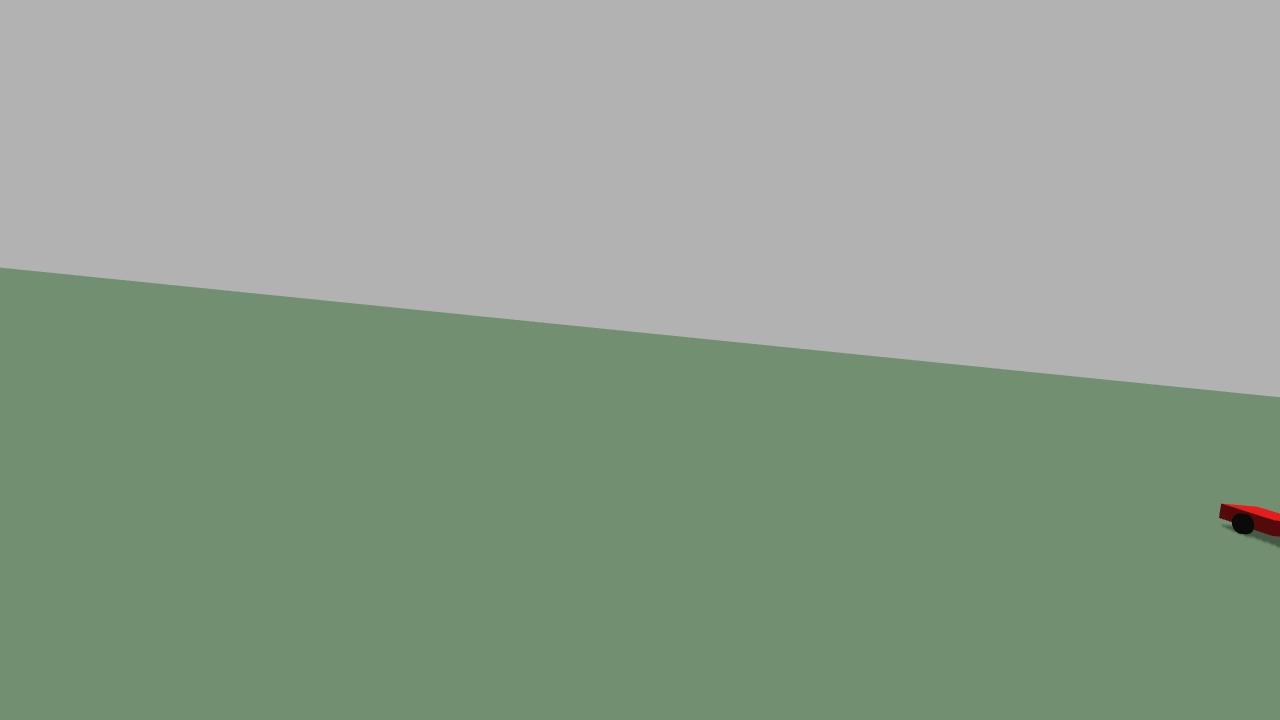ground_vehicle: (1207, 486, 1280, 560)
